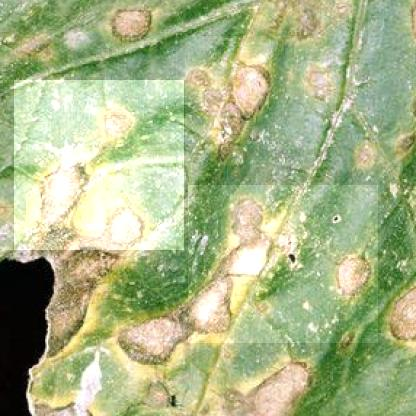black-spot: (188, 186, 378, 344), (14, 80, 184, 250), (185, 36, 327, 149), (64, 320, 182, 416)
